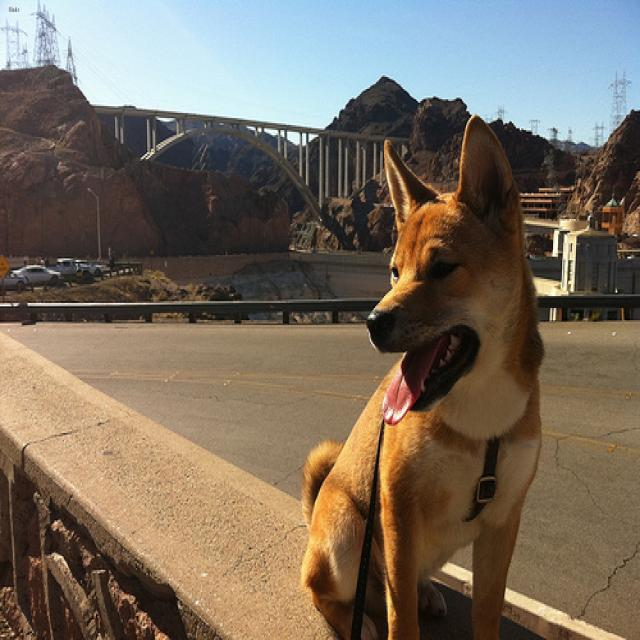dog-shiba_inu: (296, 110, 557, 637)
